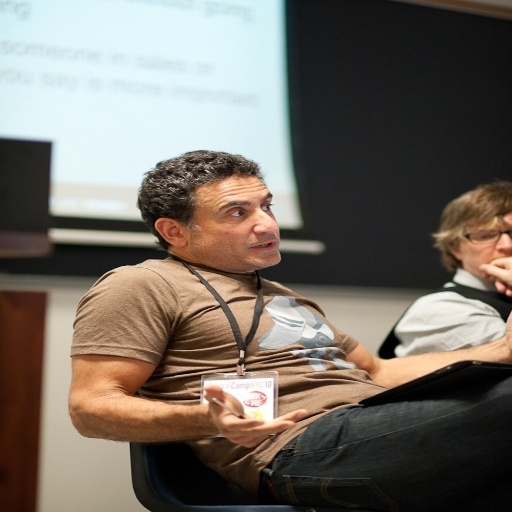hand: (207, 381, 307, 450), (475, 256, 510, 298), (501, 310, 510, 355)
